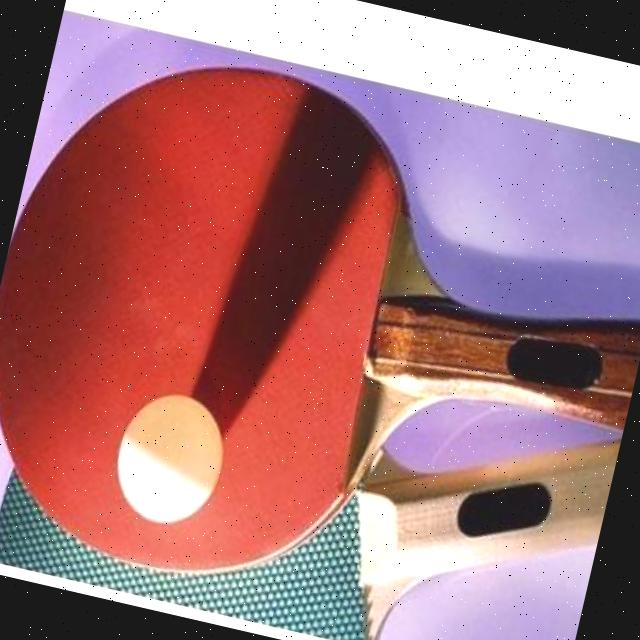ping-pong-ball: (103, 384, 235, 534)
